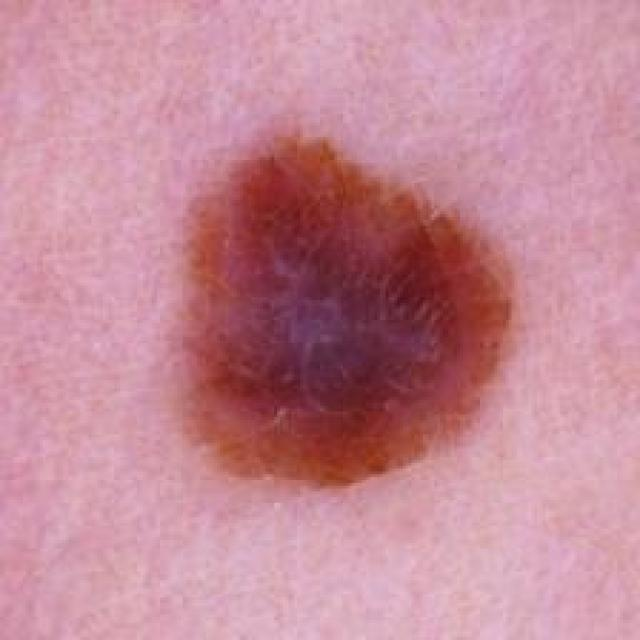Cancer: (172, 128, 514, 488)
